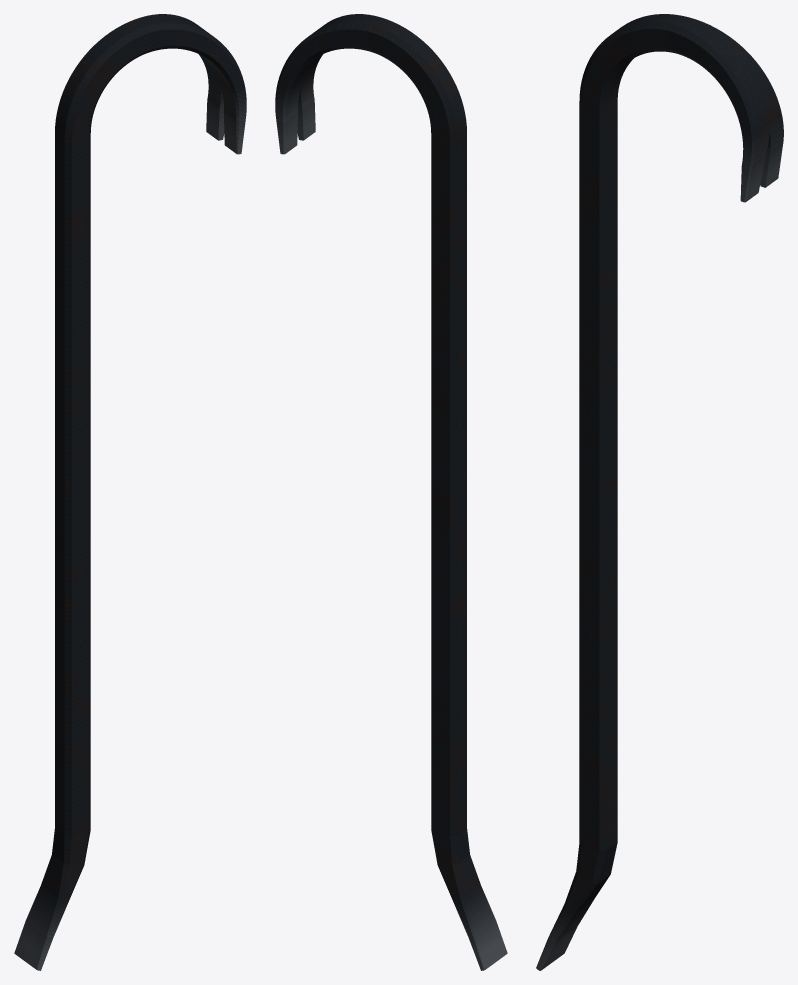
The model's file is hooked_crowbar_LOD0.glb.
3 views of the same model, side by side, from view 1: azimuth 30°, elevation 25°; view 2: azimuth 150°, elevation 25°; view 3: azimuth 330°, elevation 25° (orthographic). The views are drawn at different scales.
Parts seen in each view (by area): view 1: Forged_Bar; view 2: Forged_Bar; view 3: Forged_Bar.
Part boxes in pixels (left/top/right/bottom): Forged_Bar: left=14, top=14, right=246, bottom=970; Forged_Bar: left=275, top=14, right=507, bottom=970; Forged_Bar: left=536, top=14, right=783, bottom=970.
Bounding box in the file's own units: 0.1746 × 0.7326 × 0.046.
1 material, 1 textured.
